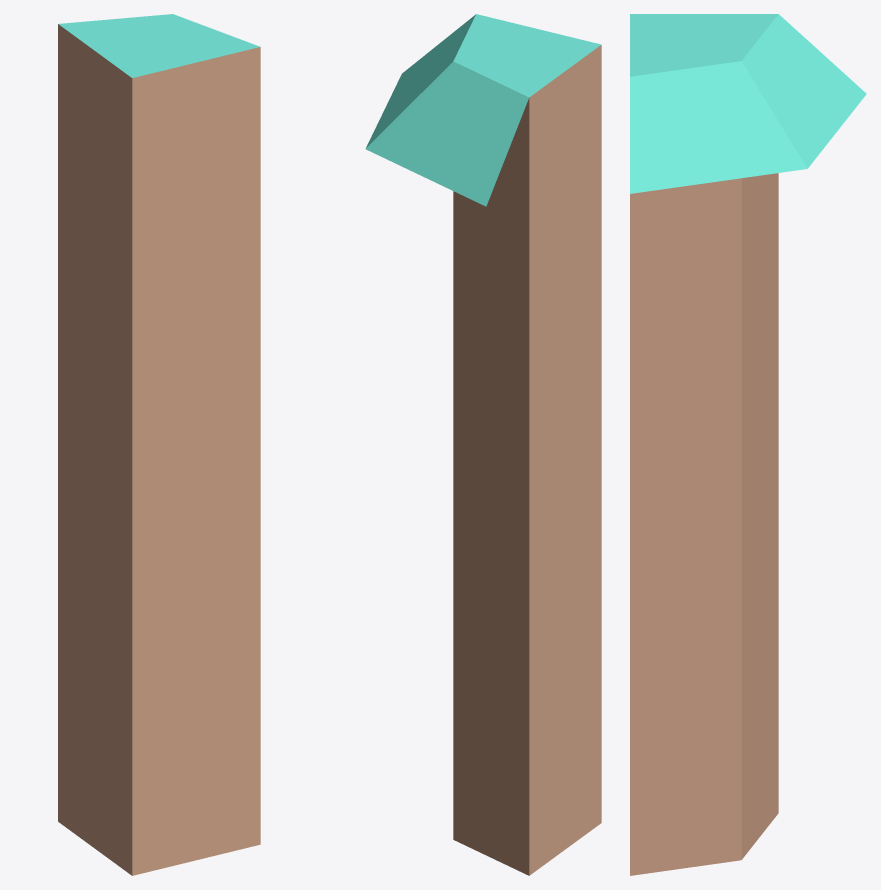
The model's file is cliff_cornerTop_rock.glb.
The picture shows the model from 3 angles, left to right: view 1: azimuth 30°, elevation 25°; view 2: azimuth 150°, elevation 25°; view 3: azimuth 270°, elevation 25°; orthographic projection. The views are drawn at different scales.
Parts seen in each view (by area): view 1: cliff_cornerTop_rock; view 2: cliff_cornerTop_rock; view 3: cliff_cornerTop_rock.
Part boxes in pixels (bbox=[...]): cliff_cornerTop_rock: bbox=[58, 14, 260, 875]; cliff_cornerTop_rock: bbox=[365, 14, 601, 875]; cliff_cornerTop_rock: bbox=[630, 14, 866, 875].
Bounding box in the file's own units: 0.2685 × 1 × 0.2685.
